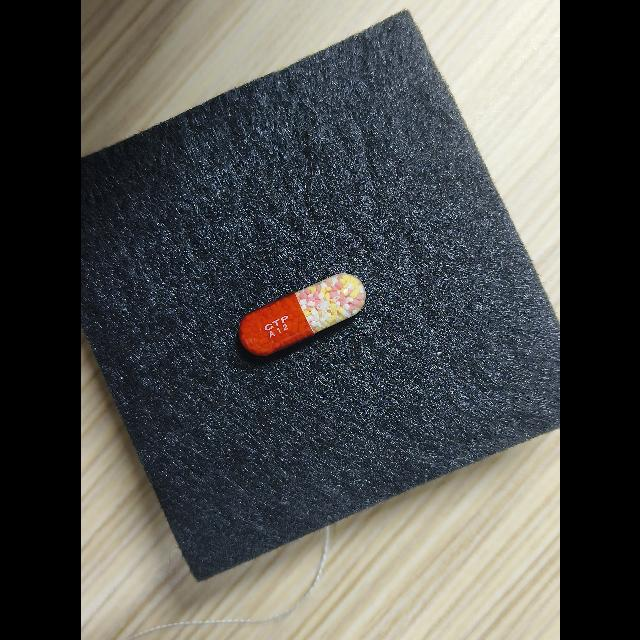Intact Capsule: (238, 273, 366, 356)
